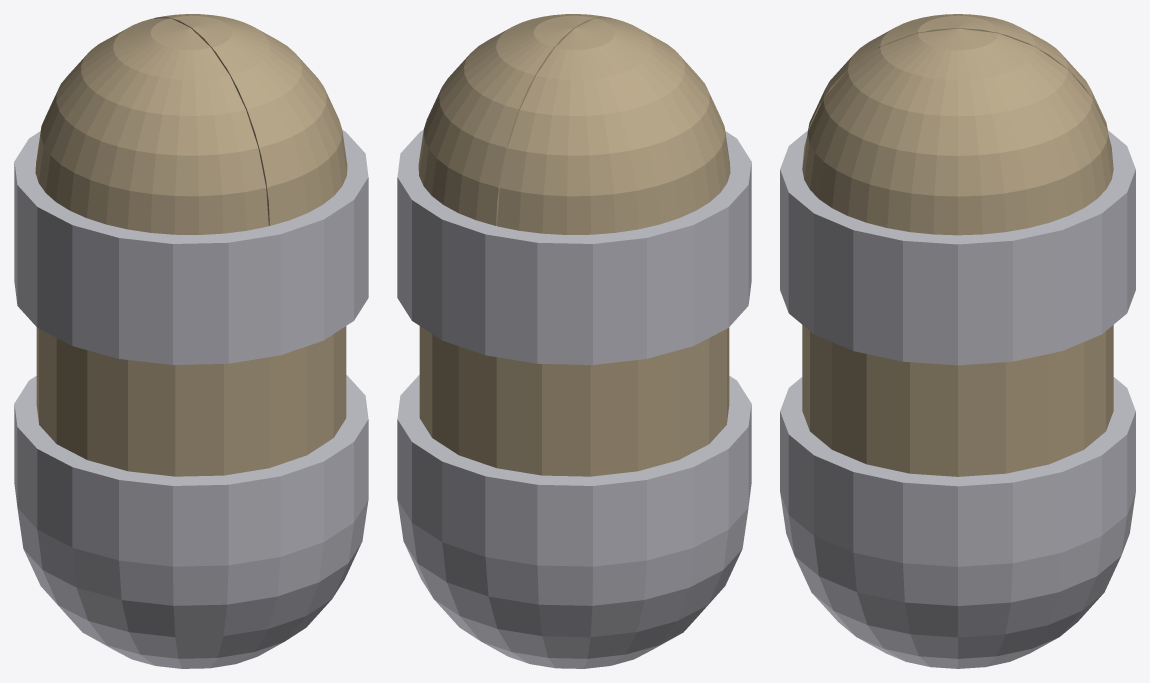
The model's file is AlienProbe.fbx.
3 views of the same model, side by side, from view 1: azimuth 30°, elevation 25°; view 2: azimuth 150°, elevation 25°; view 3: azimuth 270°, elevation 25° (orthographic).
Parts seen in each view (by area): view 1: Probe; view 2: Probe; view 3: Probe.
Boxes of the visible parts, x1,y1,x2,y2 form: Probe: (14,14,368,668); Probe: (397,14,751,668); Probe: (780,14,1135,668).
Size of the model in its own units: 3.2 by 6.2 by 3.2.
